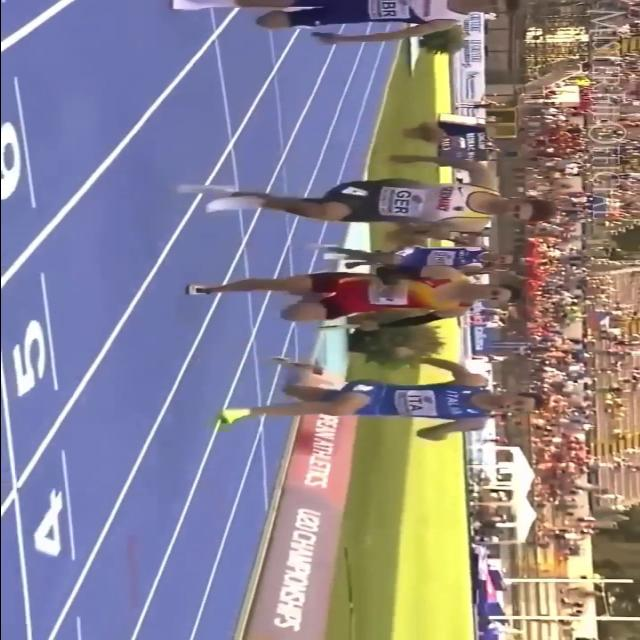NonViolence: (182, 154, 554, 240), (215, 358, 540, 442), (184, 262, 522, 328), (164, 0, 520, 45)
